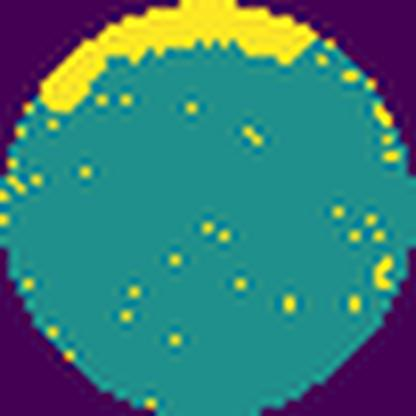Edge-Loc: (40, 0, 317, 114)
